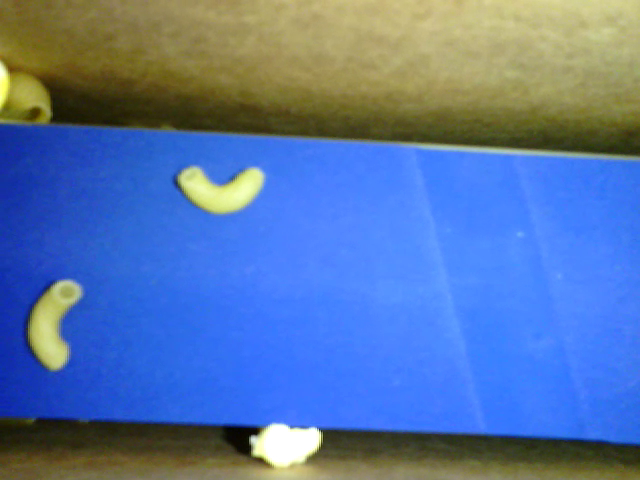elbow: (24, 279, 83, 373), (171, 164, 266, 216)
shell: (3, 72, 53, 128)
